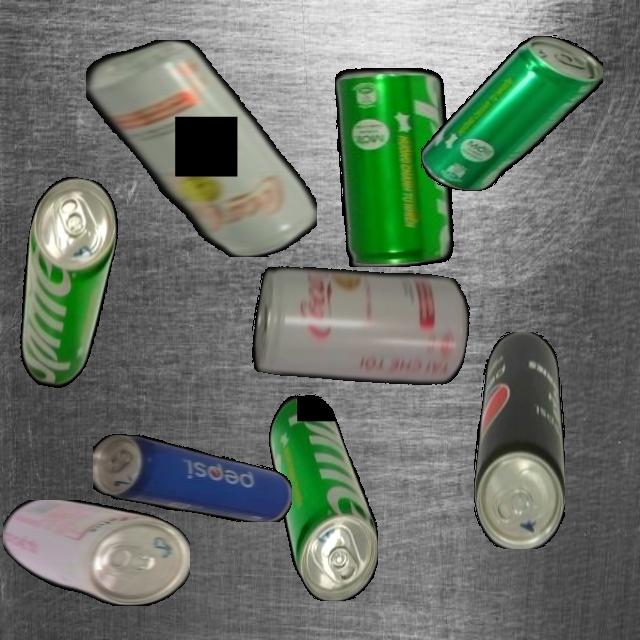debris: (85, 40, 317, 257), (245, 246, 477, 406), (421, 34, 603, 191), (4, 172, 126, 394), (335, 67, 454, 267), (268, 393, 378, 601), (473, 331, 565, 549), (2, 500, 190, 606), (93, 433, 292, 522)
